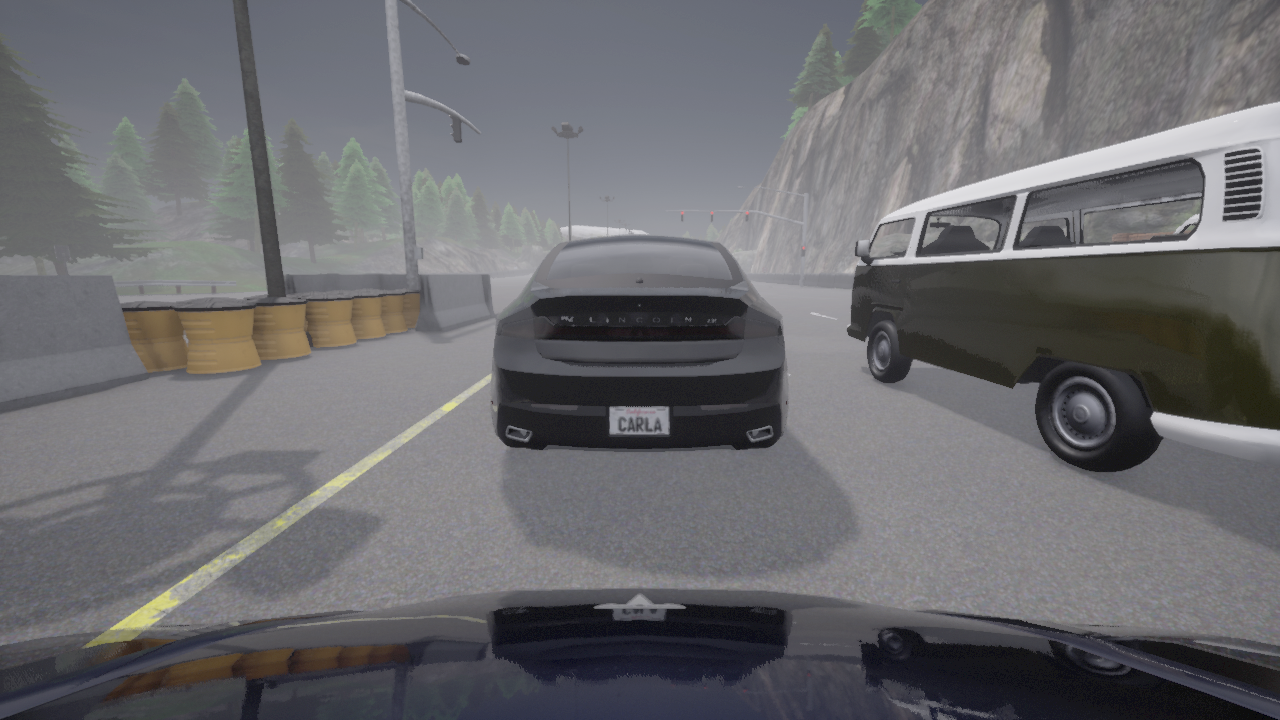cyclist: (0, 588, 1279, 719), (846, 102, 1279, 472), (491, 234, 787, 452)
